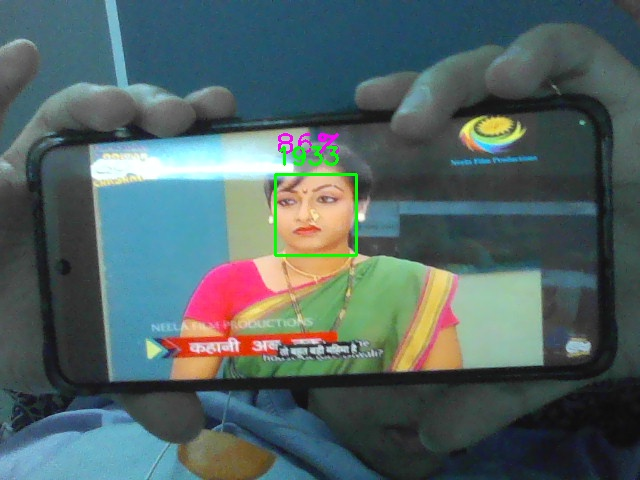fake: (275, 174, 357, 256)
